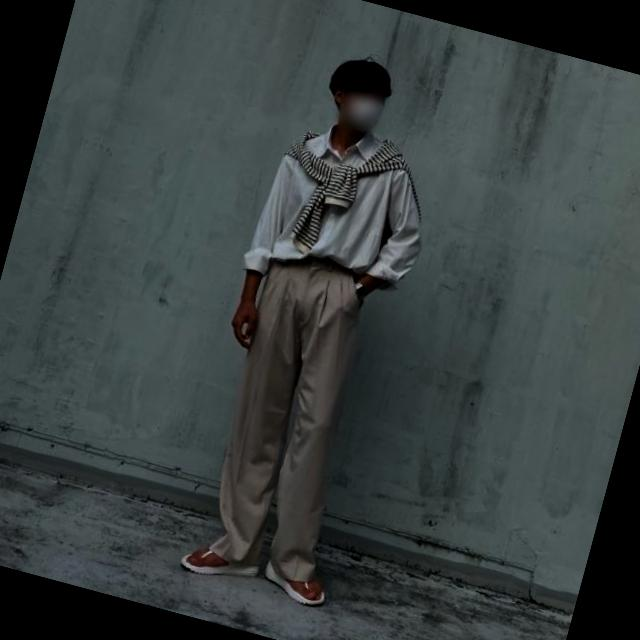shirt: (247, 113, 450, 319)
slacks: (192, 239, 396, 581)
